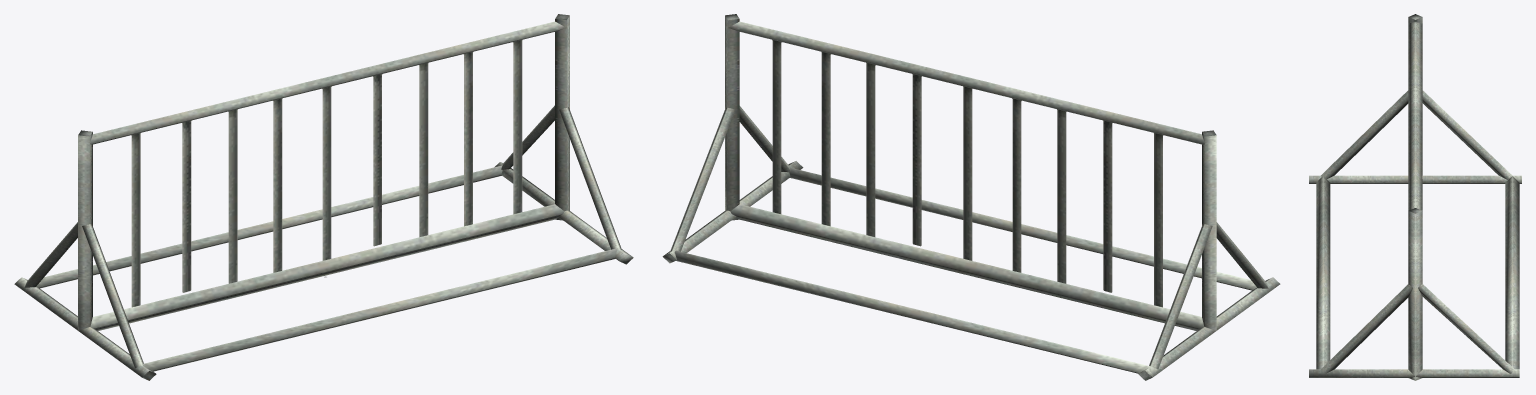
The model's file is bike_rack.fbx.
3 renders of one model, left to right at view 1: azimuth 30°, elevation 25°; view 2: azimuth 150°, elevation 25°; view 3: azimuth 270°, elevation 25°, orthographic. The views are drawn at different scales.
Visible parts, largest first — view 1: mesh_1; view 2: mesh_1; view 3: mesh_1.
Part boxes in pixels (x1,y1,x2,y2): mesh_1: (14, 14, 633, 380); mesh_1: (662, 14, 1280, 380); mesh_1: (1309, 14, 1521, 380).
Bounding box in the file's own units: 200 × 78 × 90.
